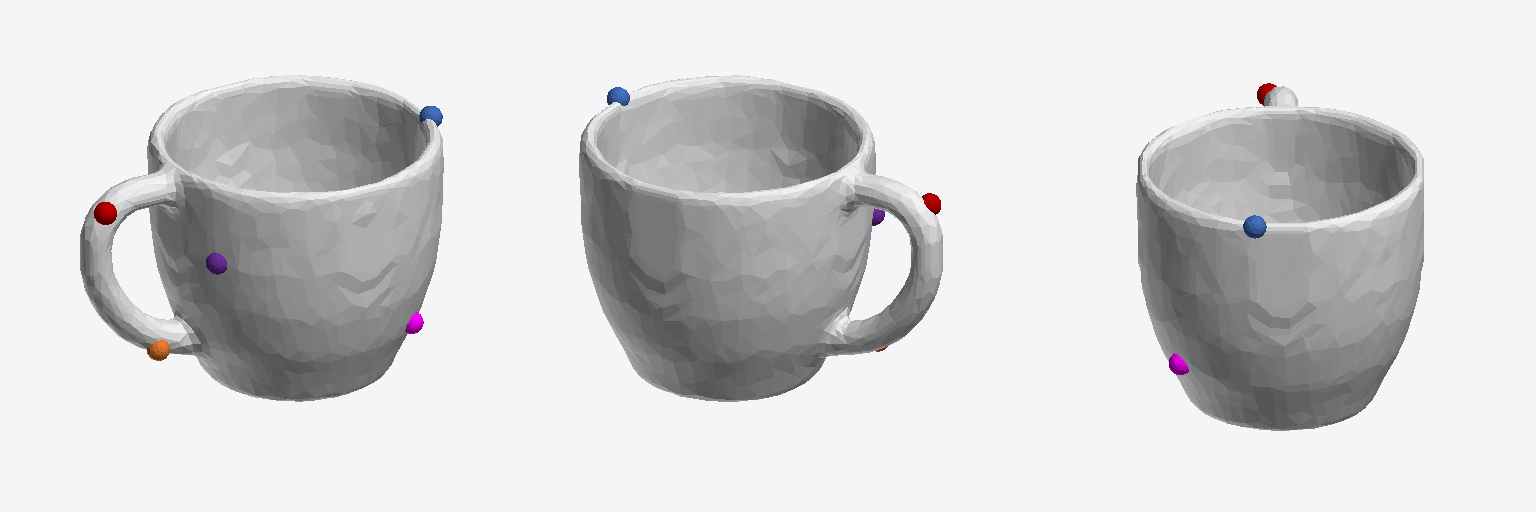
3 renders of one model, left to right at view 1: azimuth 30°, elevation 25°; view 2: azimuth 150°, elevation 25°; view 3: azimuth 270°, elevation 25°, orthographic.
Size of the model in its own units: 1.7 by 1.12 by 1.23.
1 materials, 1 textured.